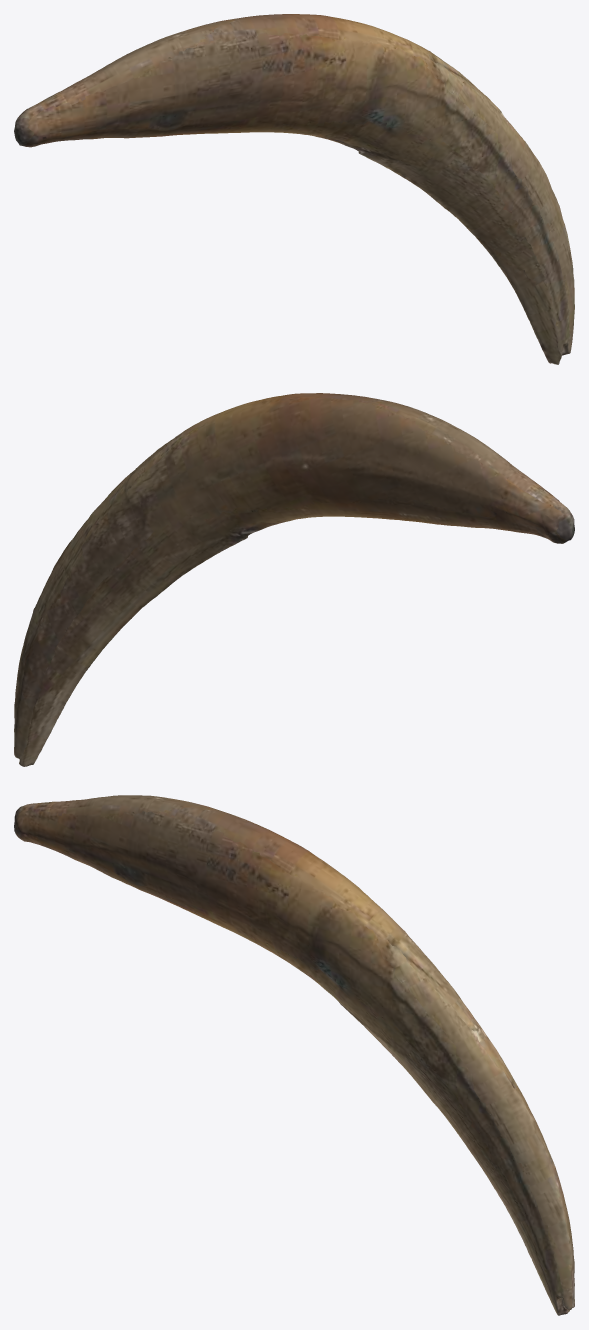
The model's file is sabretooth.glb.
3 views of the same model, one above another, from view 1: azimuth 30°, elevation 25°; view 2: azimuth 150°, elevation 25°; view 3: azimuth 330°, elevation 25° (orthographic).
Visible parts, largest first — view 1: mesh_0; view 2: mesh_0; view 3: mesh_0.
Boxes of the visible parts, left/top/right/bottom form: mesh_0: left=14, top=14, right=574, bottom=364; mesh_0: left=14, top=393, right=574, bottom=766; mesh_0: left=14, top=795, right=574, bottom=1315.
Size of the model in its own units: 0.1961 by 0.1464 by 0.0227.
Materials: 1 (1 with a texture image).
